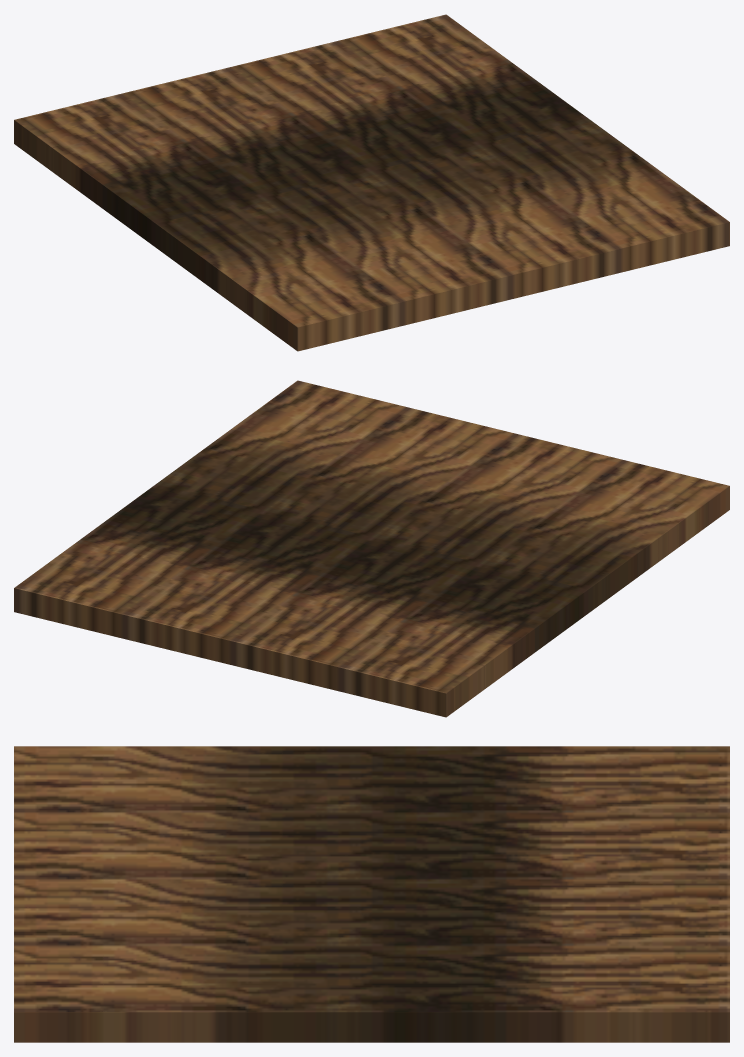
Rendered from SWORDLIGHT20_MAINCAVPLAT02CONV02.fbx.
3 views of the same model, one above another, from view 1: azimuth 30°, elevation 25°; view 2: azimuth 150°, elevation 25°; view 3: azimuth 270°, elevation 25° (orthographic). The views are drawn at different scales.
Visible parts, largest first — view 1: SWORDLIGHT20_MAINCAVPLAT02CONV02; view 2: SWORDLIGHT20_MAINCAVPLAT02CONV02; view 3: SWORDLIGHT20_MAINCAVPLAT02CONV02.
Boxes of the visible parts, bbox=[...] form: SWORDLIGHT20_MAINCAVPLAT02CONV02: bbox=[14, 14, 729, 351]; SWORDLIGHT20_MAINCAVPLAT02CONV02: bbox=[14, 380, 729, 717]; SWORDLIGHT20_MAINCAVPLAT02CONV02: bbox=[14, 746, 729, 1042].
Size of the model in its own units: 47176 by 2500 by 53631.
1 material, 1 textured.
